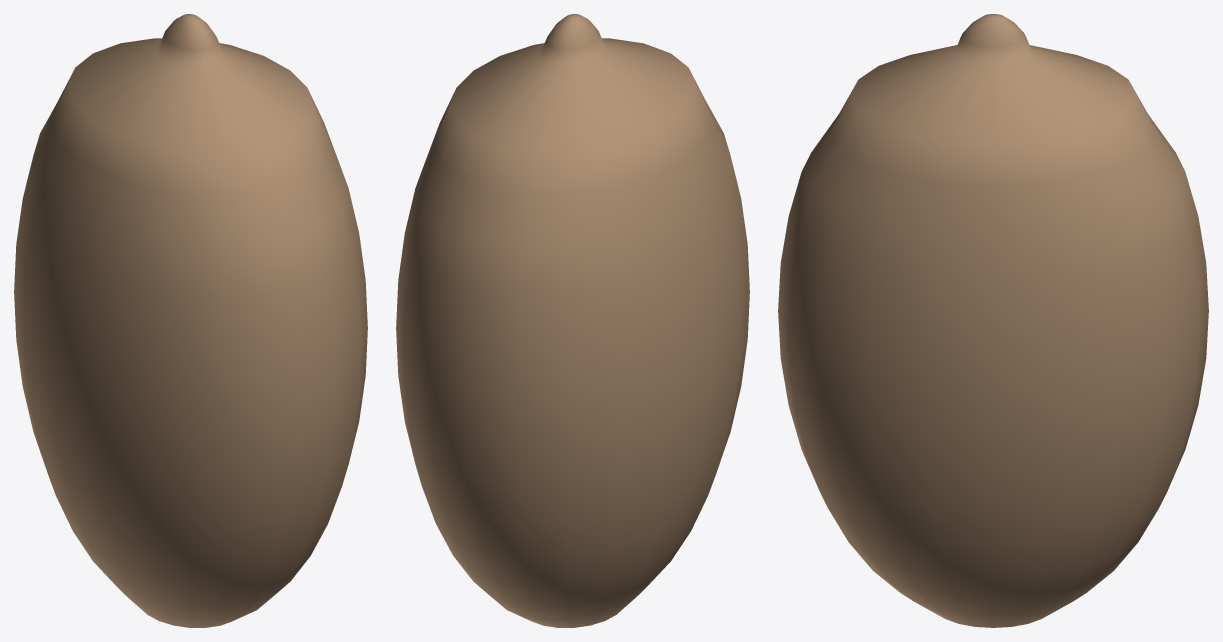
The model's file is Berry Seed.fbx.
3 renders of one model, left to right at view 1: azimuth 30°, elevation 25°; view 2: azimuth 150°, elevation 25°; view 3: azimuth 270°, elevation 25°, orthographic.
Parts seen in each view (by area): view 1: Berry_Seed; view 2: Berry_Seed; view 3: Berry_Seed.
Boxes of the visible parts, x1=… form: Berry_Seed: x1=14, y1=14, x2=367, y2=627; Berry_Seed: x1=396, y1=14, x2=749, y2=627; Berry_Seed: x1=778, y1=14, x2=1208, y2=627.
Size of the model in its own units: 25.45 by 51.34 by 33.52.
